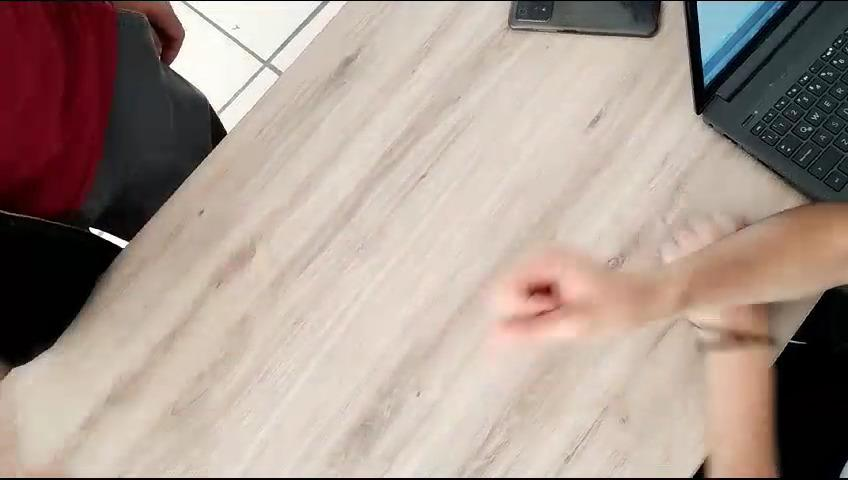Stone: (476, 189, 694, 405)
